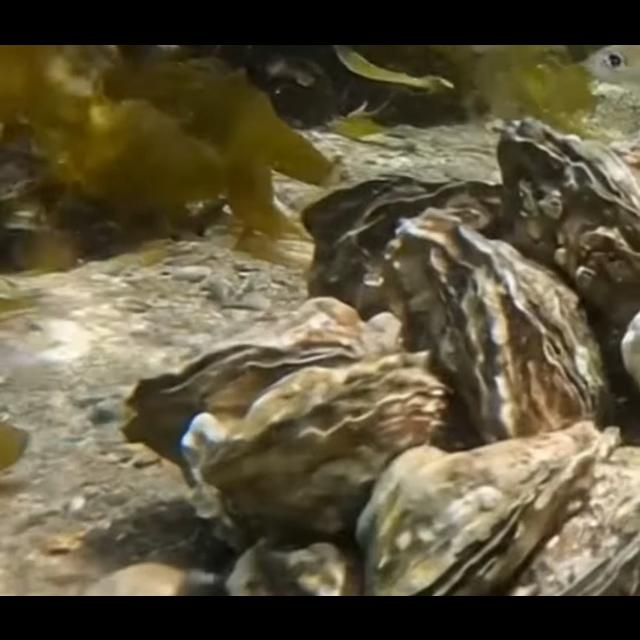Oyster-Closed: (397, 206, 616, 444), (180, 350, 444, 528), (506, 467, 640, 595)
Oyster-Open: (354, 417, 624, 595), (120, 334, 364, 488), (491, 115, 640, 322), (300, 170, 504, 316)
